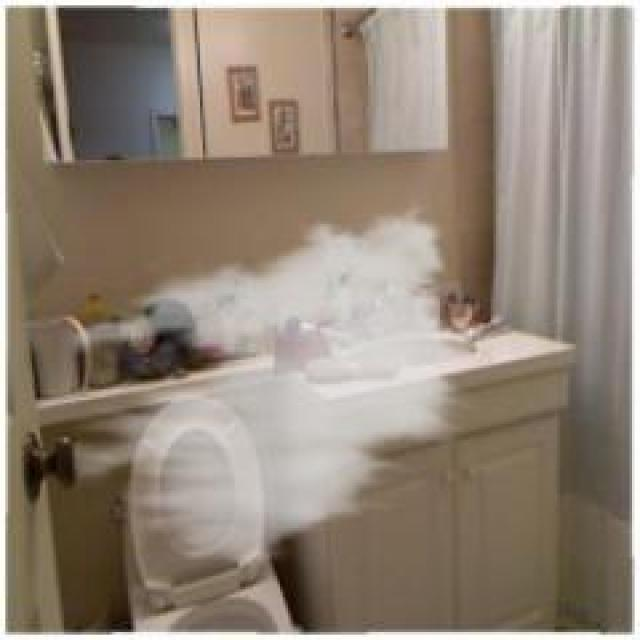Smoke: (132, 214, 458, 536)
